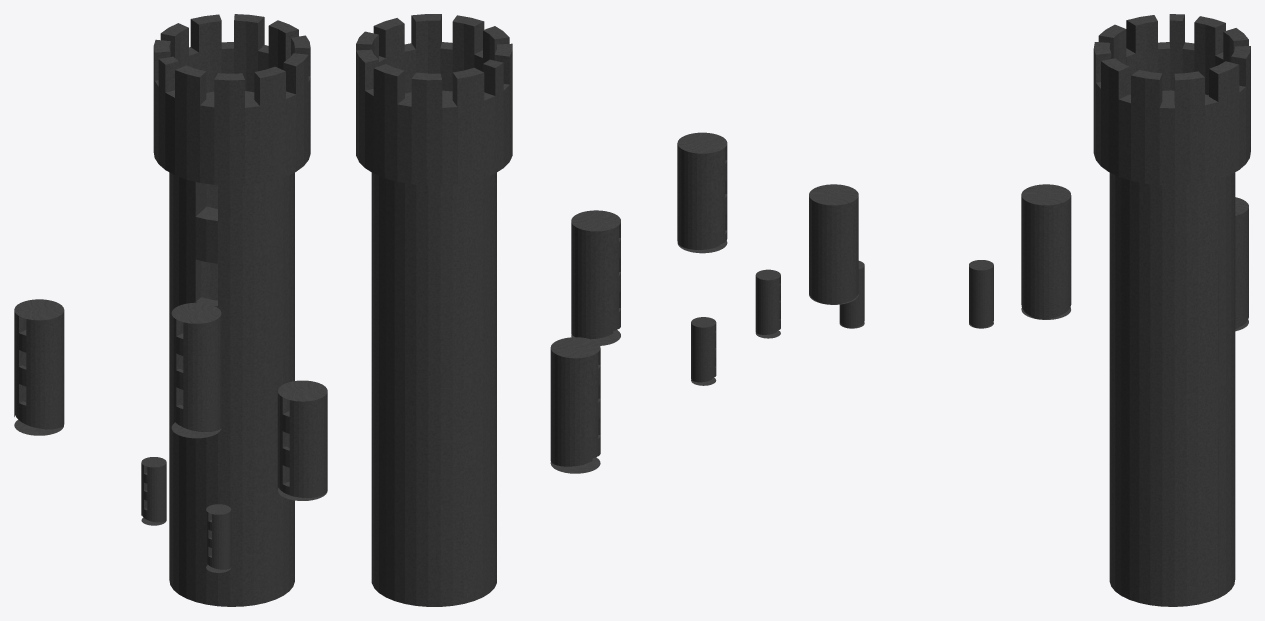
Rendered from TUBES .fbx.
The picture shows the model from 3 angles, left to right: view 1: azimuth 30°, elevation 25°; view 2: azimuth 150°, elevation 25°; view 3: azimuth 270°, elevation 25°; orthographic projection.
Visible parts, largest first — view 1: STONE 27, STONE 27.001, STONE 27.002, STONE 27.003, STONE 27.004, STONE 27.005; view 2: STONE 27, STONE 27.001, STONE 27.002, STONE 27.003, STONE 27.005, STONE 27.004; view 3: STONE 27, STONE 27.002, STONE 27.003, STONE 27.001, STONE 27.004, STONE 27.005.
Boxes of the visible parts, x1,y1,x2,y2 form: STONE 27: (153, 14, 310, 606); STONE 27.001: (14, 299, 64, 435); STONE 27.002: (171, 302, 221, 438); STONE 27.003: (277, 380, 327, 500); STONE 27.004: (141, 457, 166, 525); STONE 27.005: (206, 504, 231, 572); STONE 27: (356, 14, 512, 606); STONE 27.001: (550, 337, 600, 473); STONE 27.002: (571, 210, 620, 345); STONE 27.003: (677, 132, 727, 253); STONE 27.005: (755, 269, 780, 338); STONE 27.004: (691, 317, 716, 385); STONE 27: (1093, 14, 1250, 606); STONE 27.002: (1021, 184, 1071, 319); STONE 27.003: (809, 184, 858, 304); STONE 27.001: (1235, 197, 1248, 331); STONE 27.004: (969, 260, 993, 328); STONE 27.005: (839, 261, 864, 328).
Bounding box in the file's own units: 19094 × 37914 × 28478.
